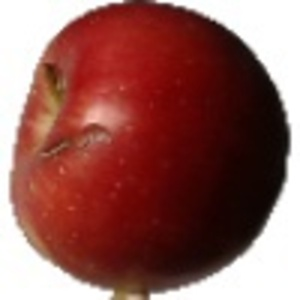maçã braeburn: (10, 1, 290, 288)
